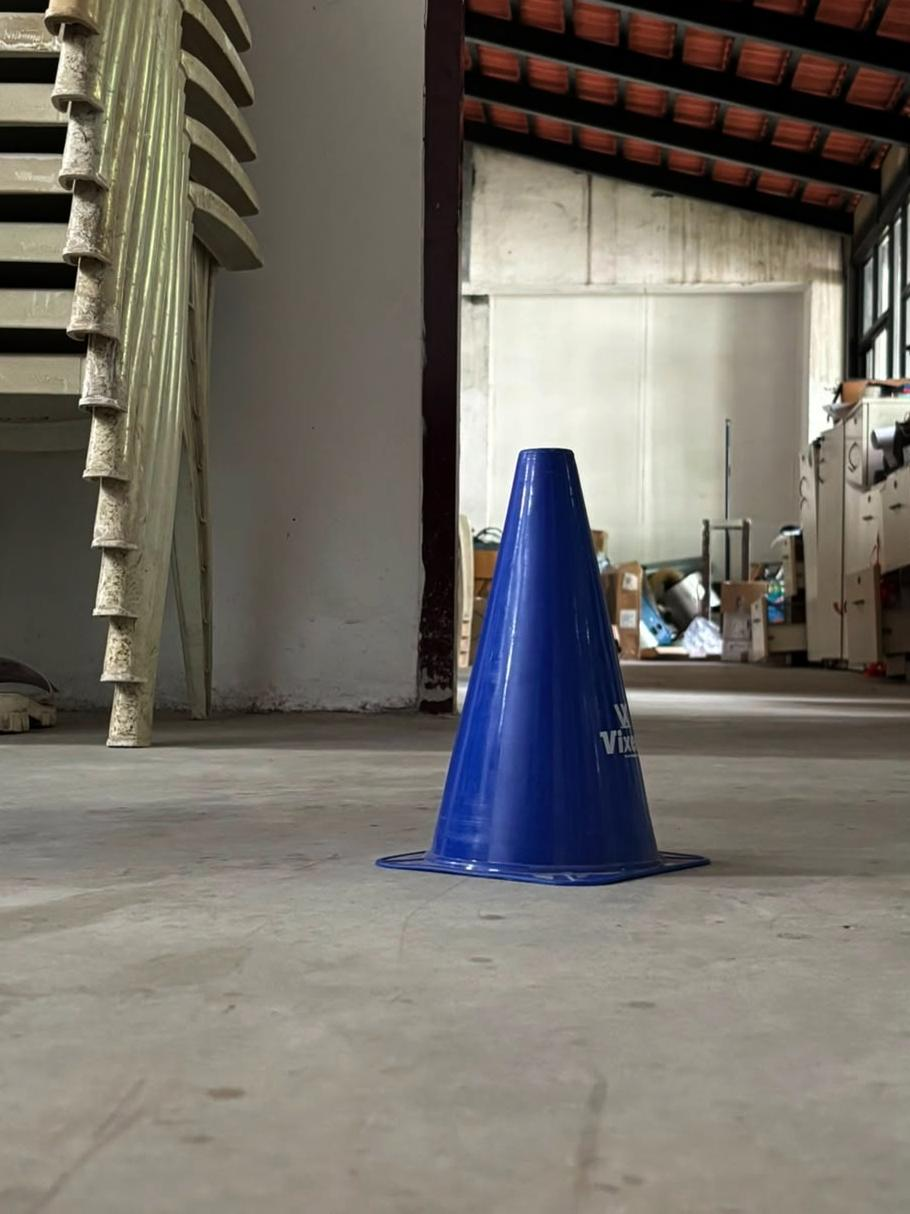0 cone: (377, 449, 708, 887)
